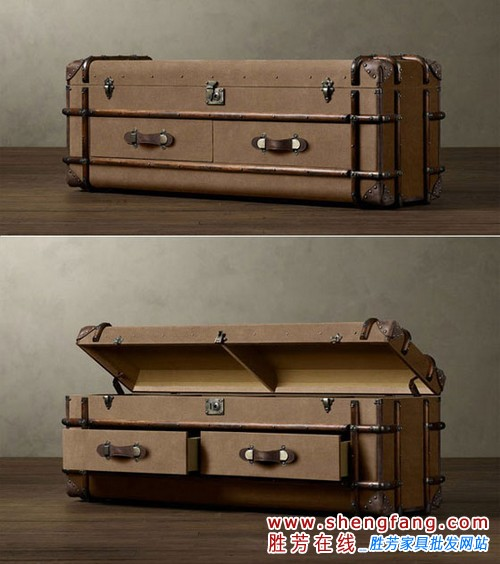shoutibox: (61, 54, 450, 208)
